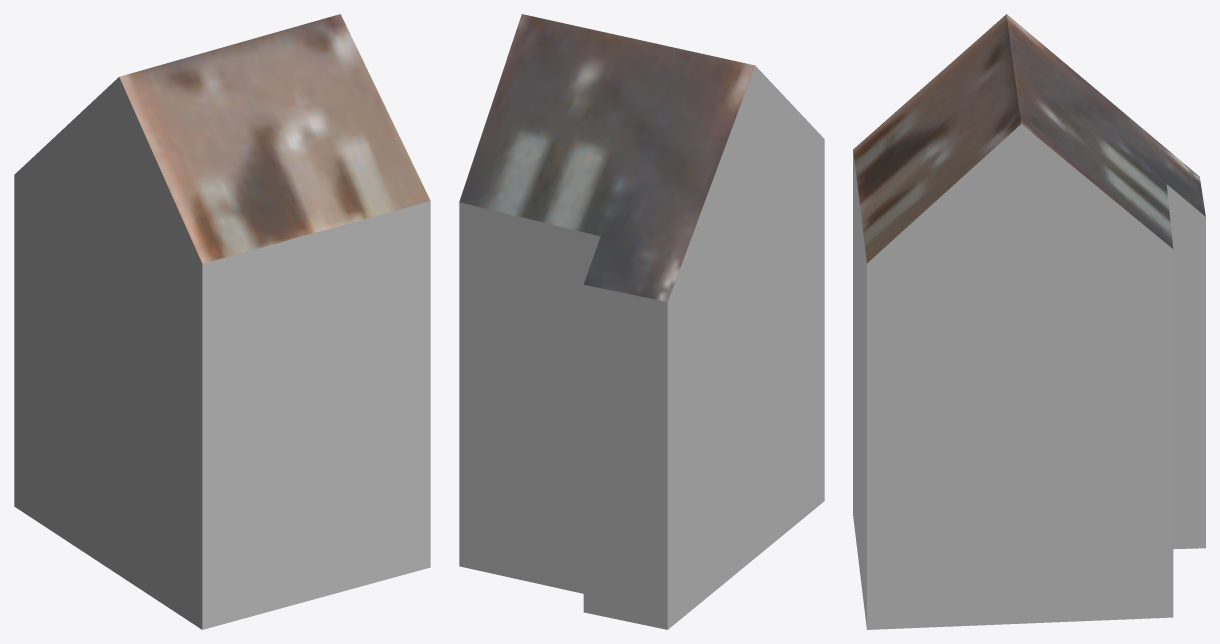
File: DEBW_0010007Tx8s.gltf
The picture shows the model from 3 angles, left to right: view 1: azimuth 30°, elevation 25°; view 2: azimuth 150°, elevation 25°; view 3: azimuth 270°, elevation 25°; orthographic projection.
Visible parts, largest first — view 1: Z_UP; view 2: Z_UP; view 3: Z_UP.
Boxes of the visible parts, x1,y1,x2,y2 form: Z_UP: [14, 14, 430, 629]; Z_UP: [459, 14, 824, 629]; Z_UP: [853, 14, 1205, 629].
Bounding box in the file's own units: 10.79 × 20.64 × 13.21.
2 materials, 1 textured.
